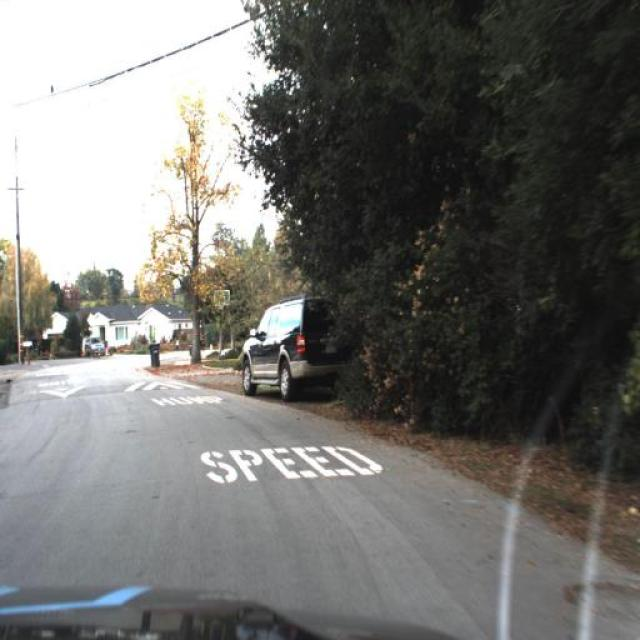car: (236, 290, 363, 409), (79, 326, 109, 364)
